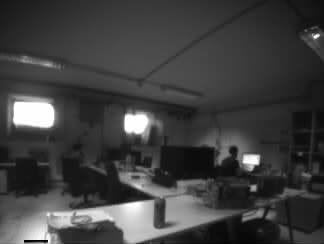Tin can: (154, 197, 165, 229)
